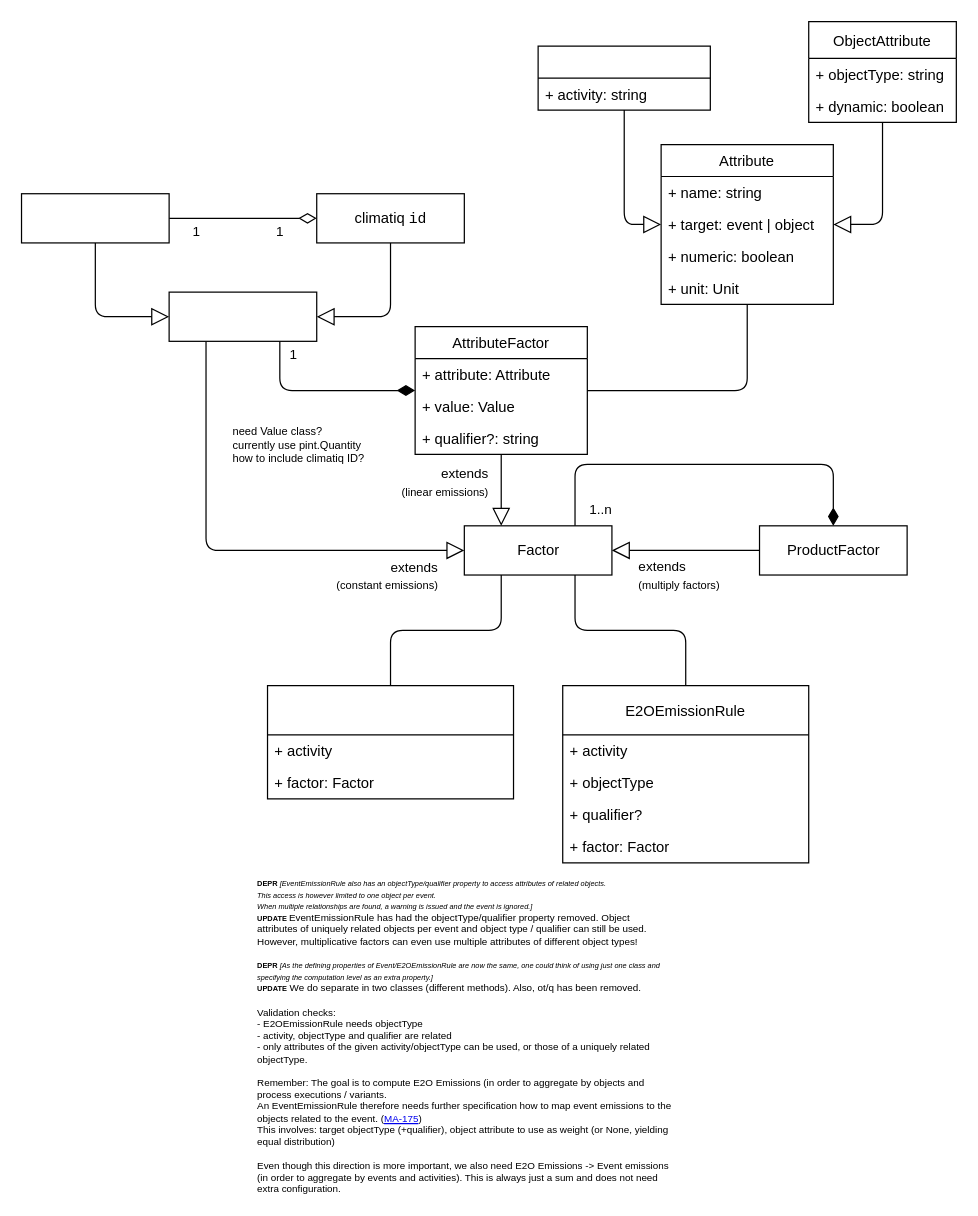
This 978x1216 diagram has some shape labels left out. Here are the shapes that lost their labels. From the top down, the box of each, then its label:
(537, 45, 710, 110): EventAttribute
(20, 192, 169, 243): Quantity
(168, 291, 317, 341): Value
(266, 684, 514, 799): EventEmissionRule
